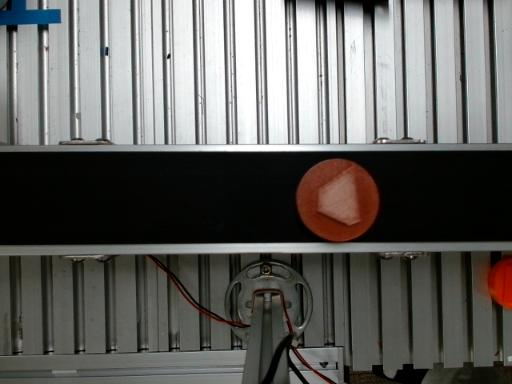Brown_Waper: (297, 159, 378, 241)
Not_Square: (318, 163, 360, 227)
